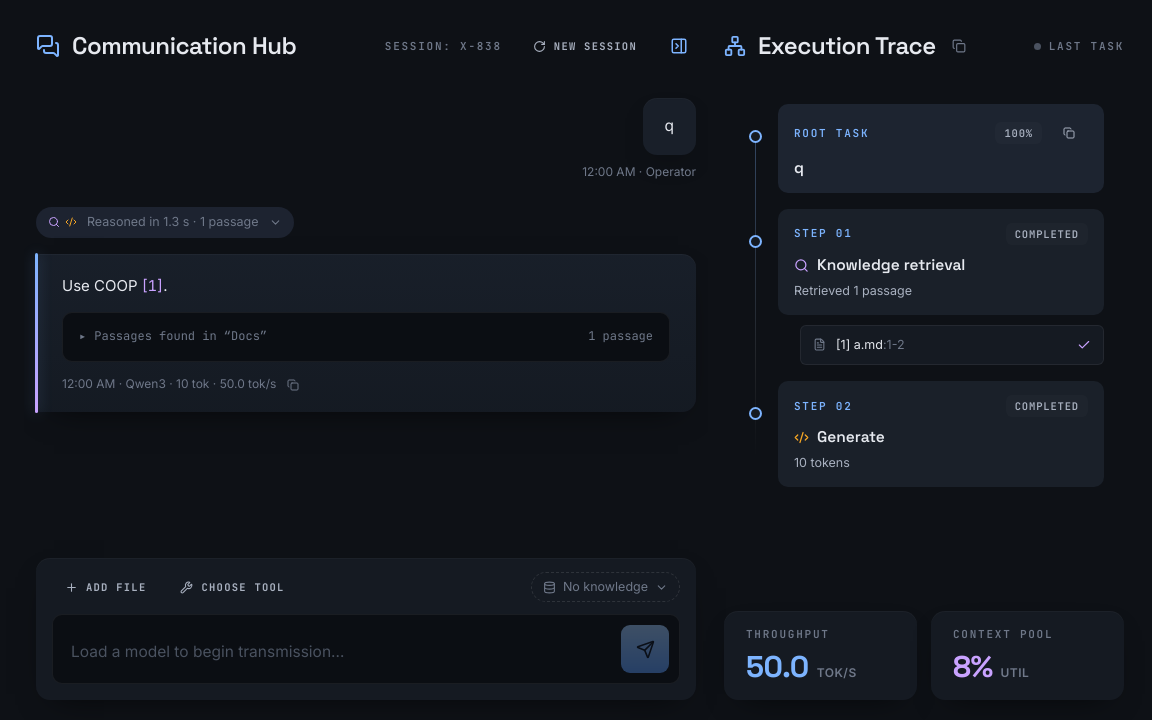
Command Center › folds a finished turn’s reasoning to one line that opens to every step
Expected: the text "Reasoned in 1.3 s · 1 passage" is shown, [87, 213, 258, 232]
Click the heading "Reasoned in 1.3 s · 1 passage".
click(165, 222)  # box [36, 207, 294, 238]
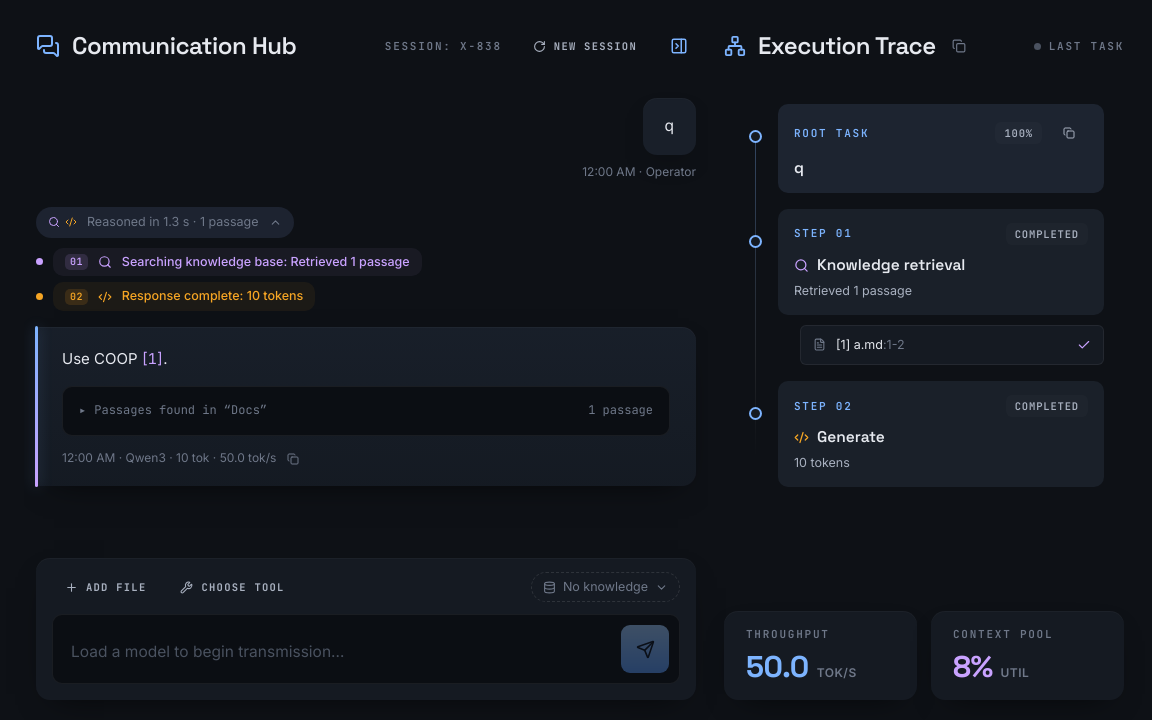
Expected: the text "Searching knowledge base: Retrieved 1 passage" is shown, [122, 252, 410, 271]
